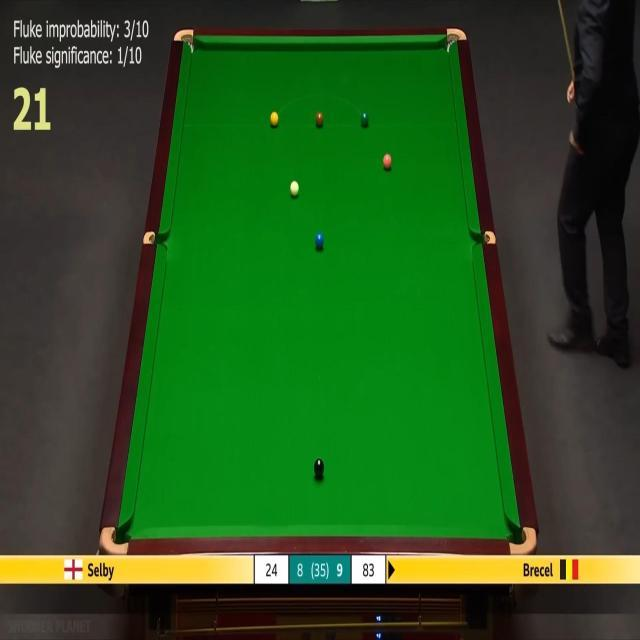Ball: (313, 458, 325, 478), (315, 232, 324, 249), (290, 181, 299, 196), (383, 153, 391, 169), (316, 112, 324, 126), (270, 112, 278, 126), (361, 112, 368, 126)
